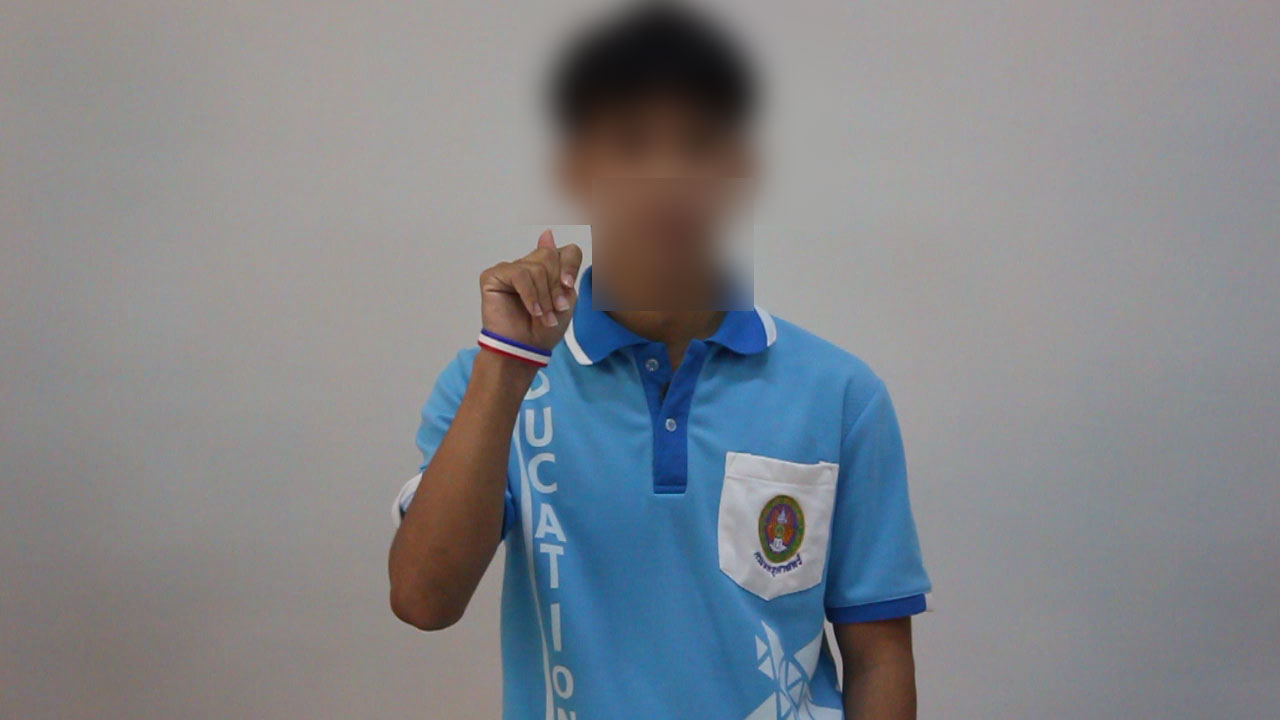tor: (460, 220, 596, 392)
